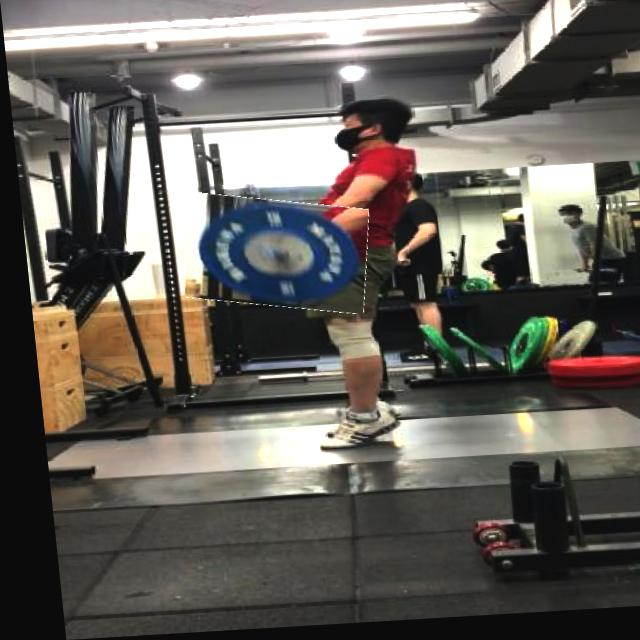barbell: (175, 194, 369, 320)
